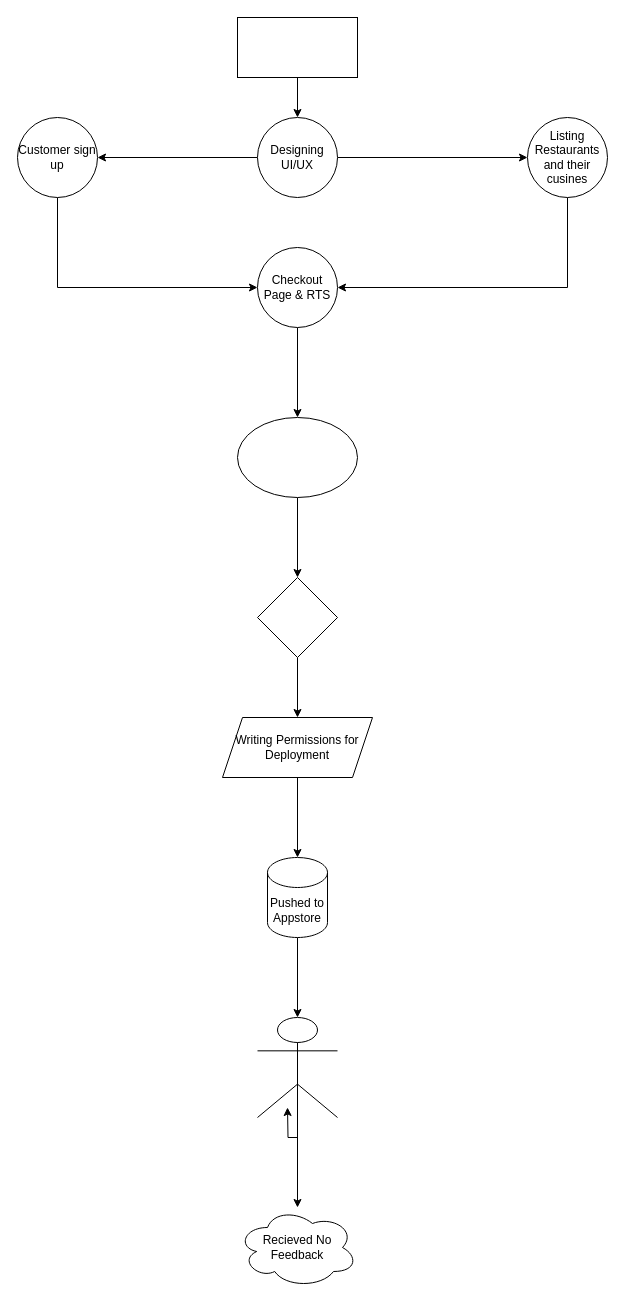
Image size: 625x1305. Some labels were removed from this diagram. Here are the shapes that lost their labels. From the top down, the centre of each, then its label:
At (297,47): "taj tiffin's".
At (297,457): "Compiling to Apk".
At (297,617): "No Bugs Found".
At (297,1067): "Customer Using Application".
